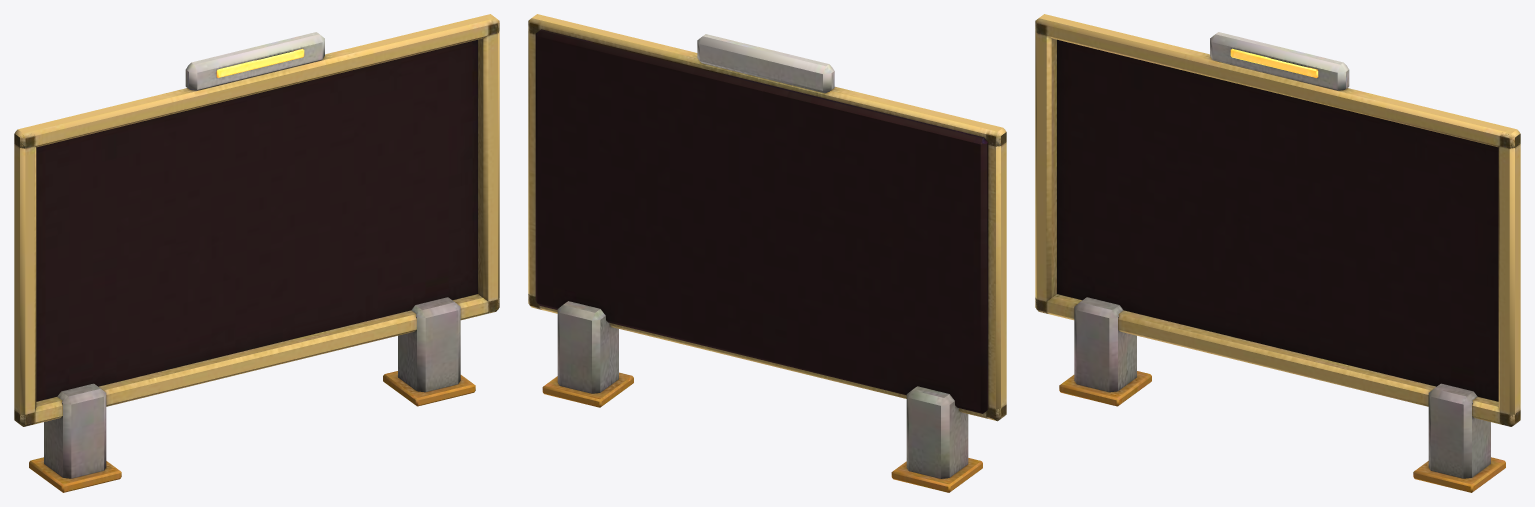
File: hub_screen.glb
The picture shows the model from 3 angles, left to right: view 1: azimuth 30°, elevation 25°; view 2: azimuth 150°, elevation 25°; view 3: azimuth 330°, elevation 25°; orthographic projection.
Parts seen in each view (by area): view 1: hub_screen; view 2: hub_screen; view 3: hub_screen.
Part boxes in pixels (left/top/right/bottom): hub_screen: left=14, top=14, right=499, bottom=492; hub_screen: left=528, top=14, right=1006, bottom=492; hub_screen: left=1035, top=14, right=1520, bottom=492.
Bounding box in the file's own units: 17.6 × 13.6 × 2.2.
1 material, 1 textured.
